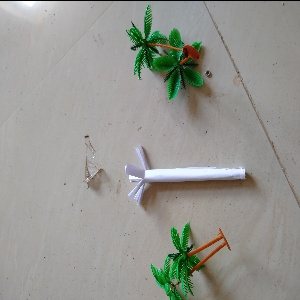plant: (143, 213, 241, 300), (122, 9, 208, 103)
weed: (122, 142, 255, 203)
